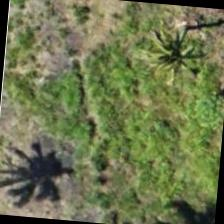Kelapa_Sawit: (127, 16, 223, 115)
